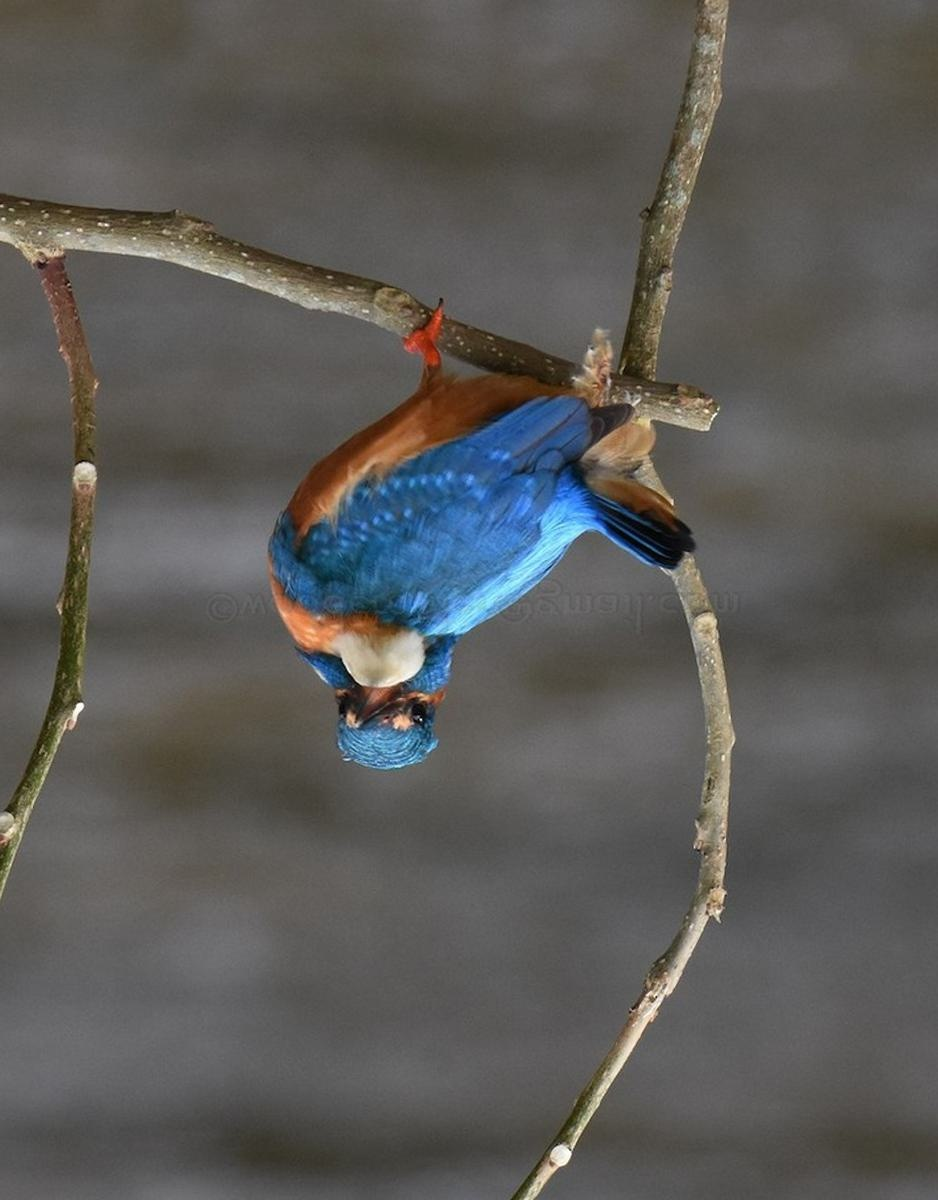kingfisher: (257, 304, 670, 825)
